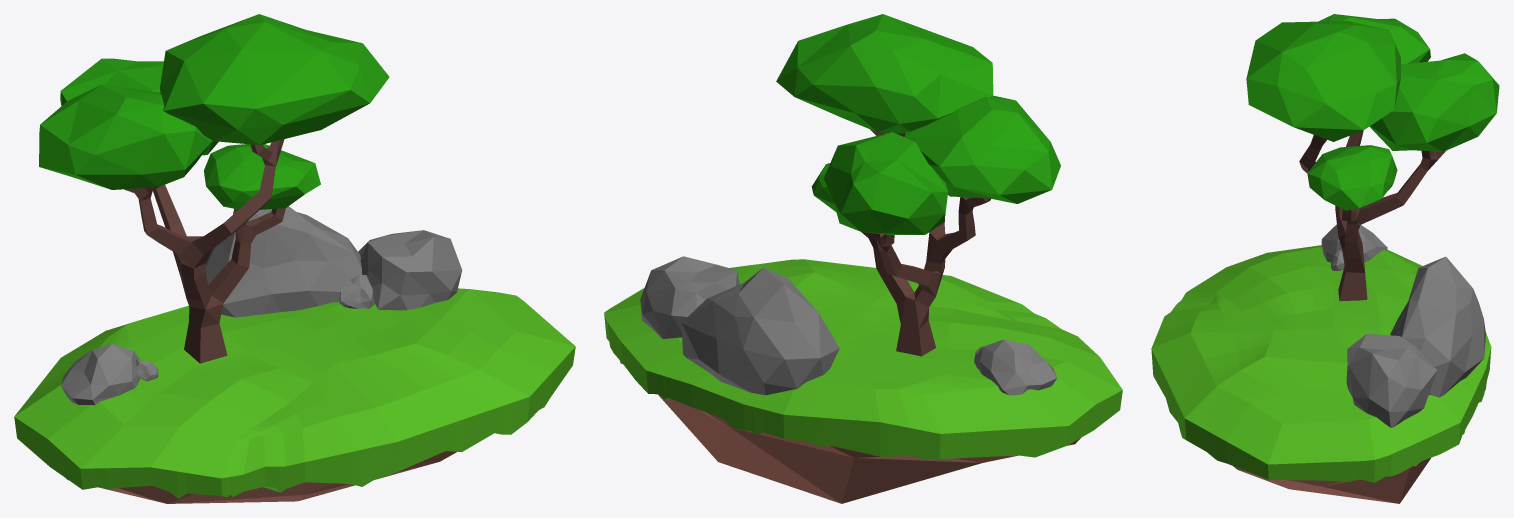
The model's file is island.fbx.
3 renders of one model, left to right at view 1: azimuth 30°, elevation 25°; view 2: azimuth 150°, elevation 25°; view 3: azimuth 270°, elevation 25°, orthographic. The views are drawn at different scales.
Parts seen in each view (by area): view 1: Part 4, Part 2, Part 3, Part 1, Part 5; view 2: Part 4, Part 2, Part 3, Part 5, Part 1; view 3: Part 4, Part 2, Part 3, Part 1, Part 5.
Part boxes in pixels (x1,y1,x2,y2): Part 4: (14,288,575,498); Part 2: (39,14,389,209); Part 3: (61,206,462,405); Part 1: (124,139,285,363); Part 5: (66,451,456,503); Part 4: (604,259,1122,459); Part 2: (776,14,1060,234); Part 3: (640,256,1057,395); Part 5: (658,394,1080,503); Part 1: (861,129,990,356); Part 4: (1151,245,1491,482); Part 2: (1246,14,1499,210); Part 3: (1321,224,1485,427); Part 1: (1299,130,1445,301); Part 5: (1233,458,1430,503).
Size of the model in its own units: 1525 by 1383 by 1042.
